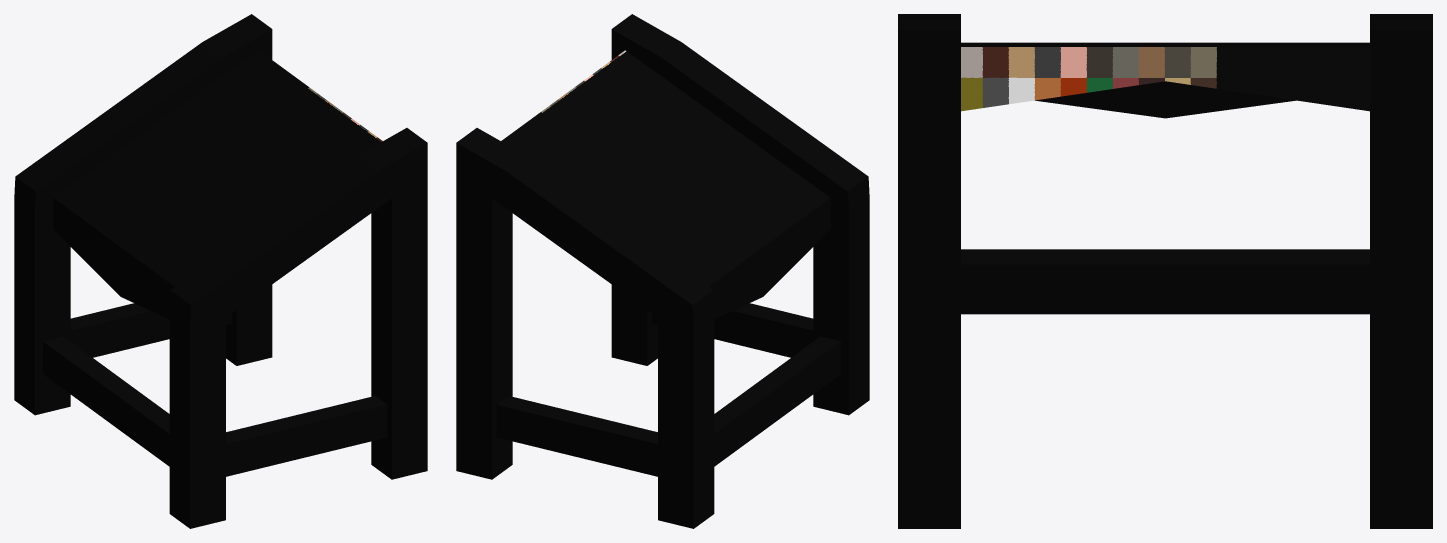
File: Stables.fbx
3 renders of one model, left to right at view 1: azimuth 30°, elevation 25°; view 2: azimuth 150°, elevation 25°; view 3: azimuth 270°, elevation 25°, orthographic. The views are drawn at different scales.
Parts seen in each view (by area): view 1: Cube, Cube.001; view 2: Cube, Cube.001; view 3: Cube, Cube.001.
Part boxes in pixels (bbox=[...]): Cube: bbox=[14, 14, 427, 528]; Cube.001: bbox=[53, 50, 382, 319]; Cube: bbox=[456, 14, 869, 528]; Cube.001: bbox=[501, 50, 830, 319]; Cube: bbox=[898, 14, 1432, 528]; Cube.001: bbox=[961, 42, 1369, 118].
Size of the model in its own units: 177 by 233 by 227.
